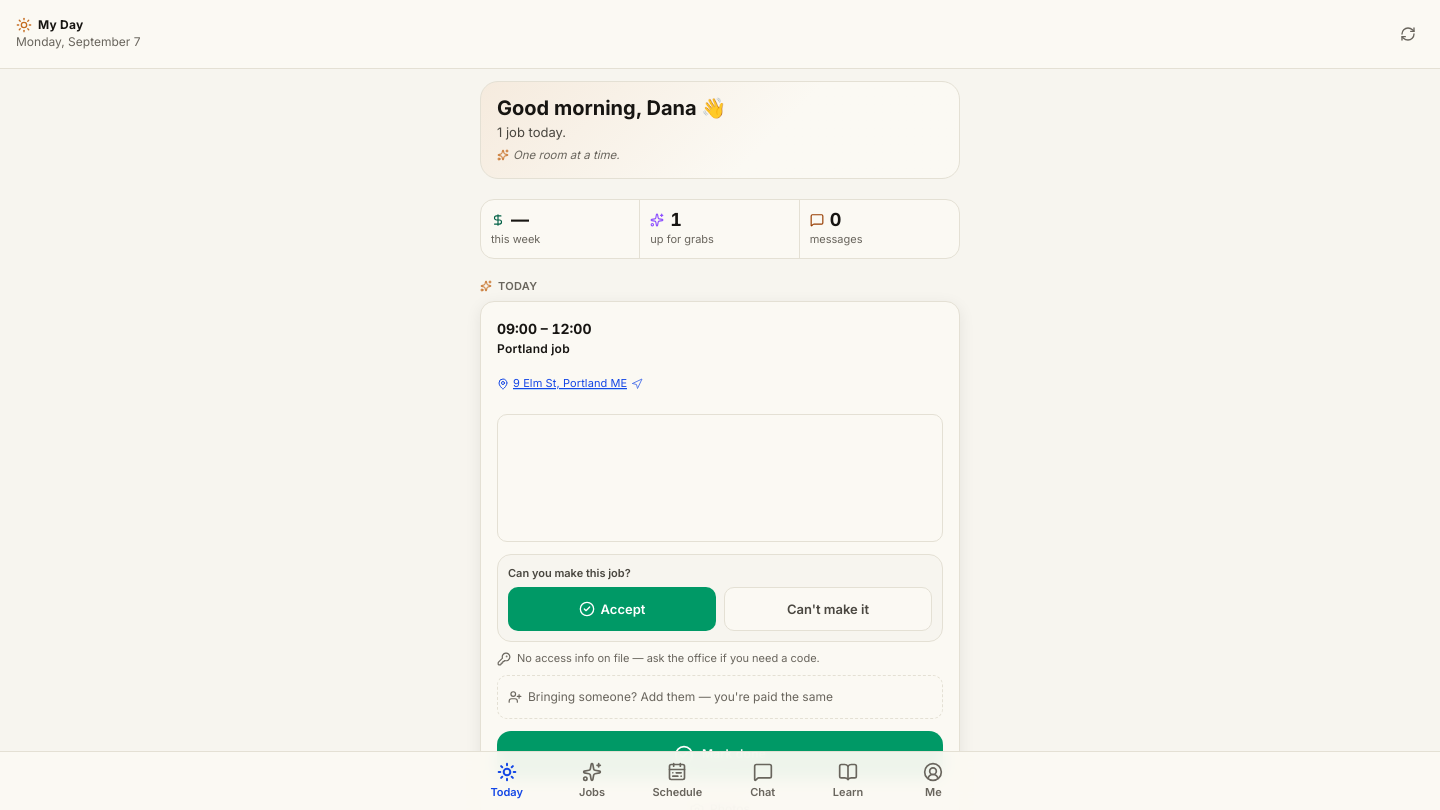
Test: has a Jobs tab that lists every open job to claim
Expected: the text "My Day" is shown, [38, 17, 84, 33]
Click the button "Jobs": (592, 781) [549, 752, 635, 809]
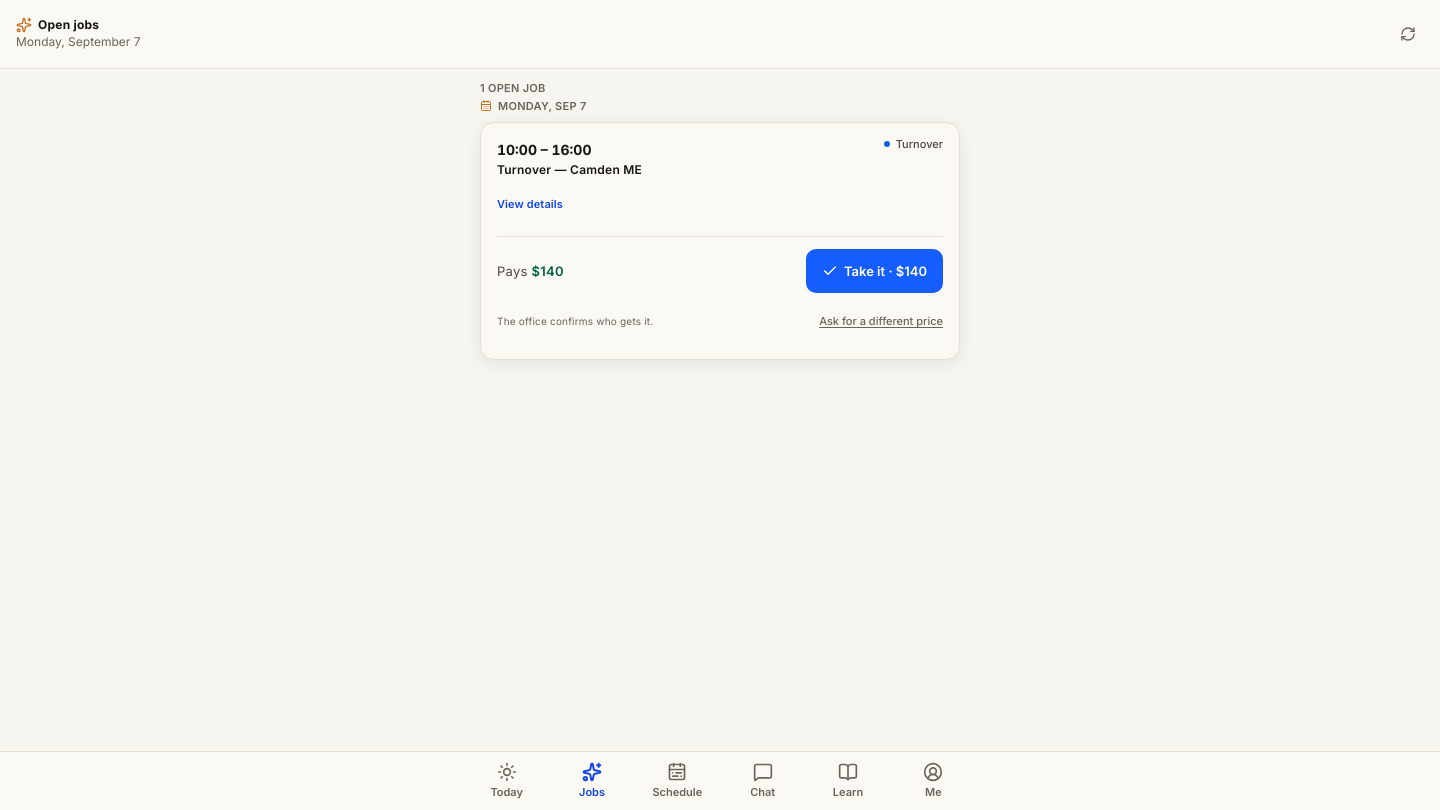
Expected: the text "Turnover — Camden ME" is shown, [497, 162, 642, 178]
Expected: the text "Open jobs" is shown, [38, 17, 99, 33]
